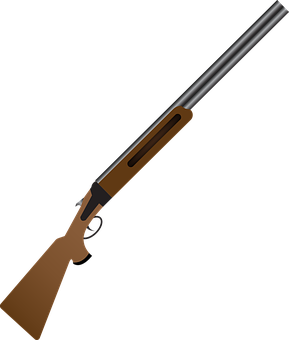shotgun: (1, 3, 289, 338)
